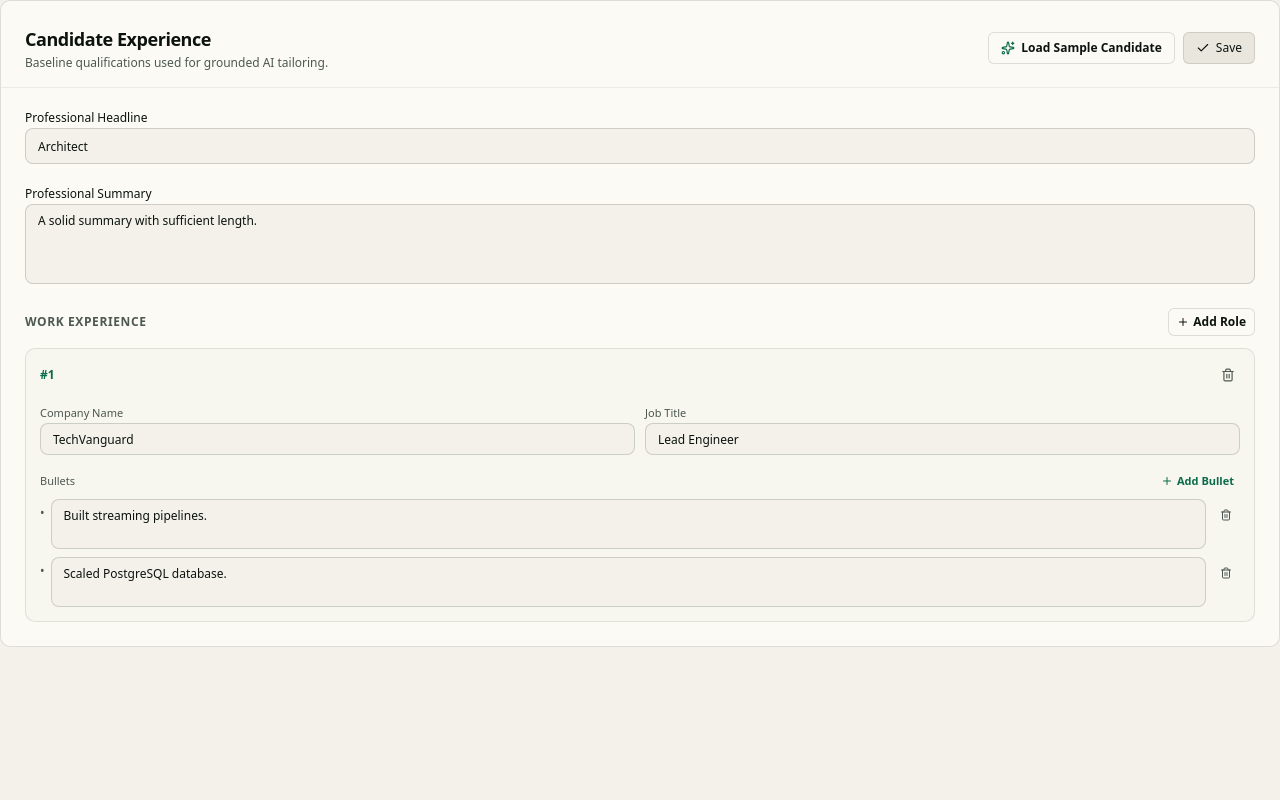
Scenario: ExperienceForm (covers: AC-2, AC-3, AC-10) › saves candidate profile to database and displays success notification (covers: AC-3)
The width and height of the screenshot is (1280, 800).
Step 1. Click the button "Save" → (1219, 48), box [1183, 32, 1255, 64]
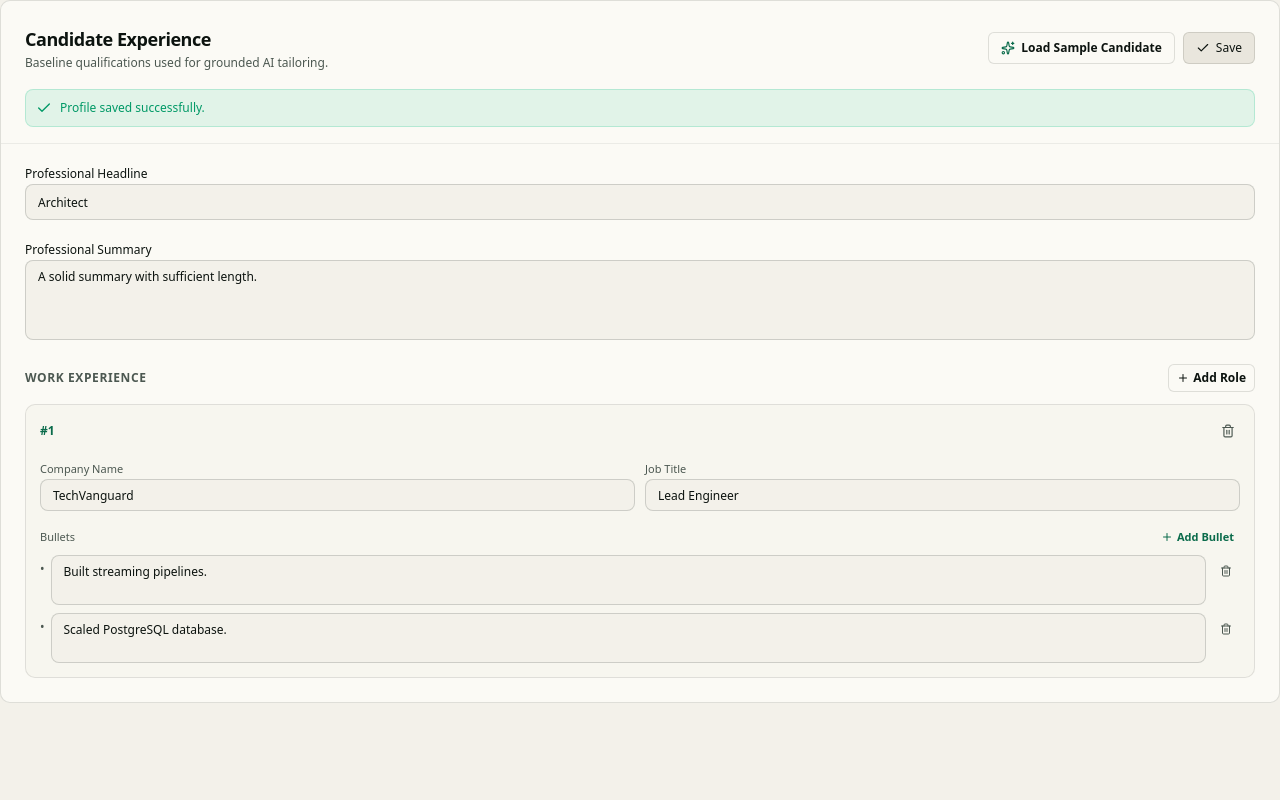
Expected: the text "Profile saved successfully." is shown, [60, 100, 205, 116]
